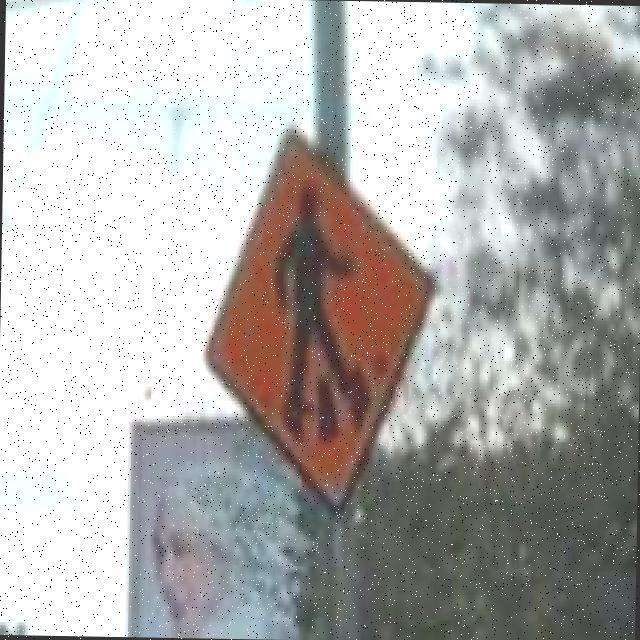Przejscie dla pieszych: (206, 124, 432, 501)
